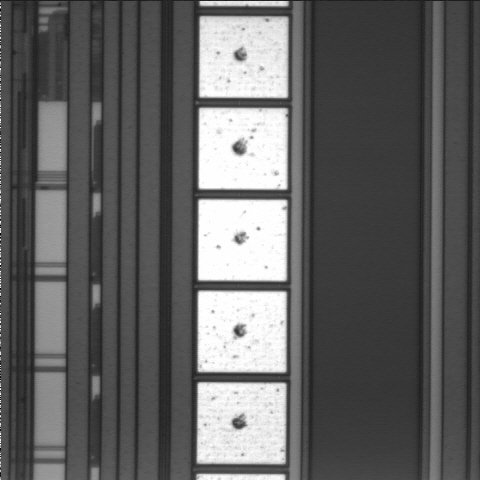pad: (199, 16, 288, 98), (199, 108, 288, 190), (198, 199, 287, 281), (197, 382, 286, 464), (198, 291, 287, 372)
